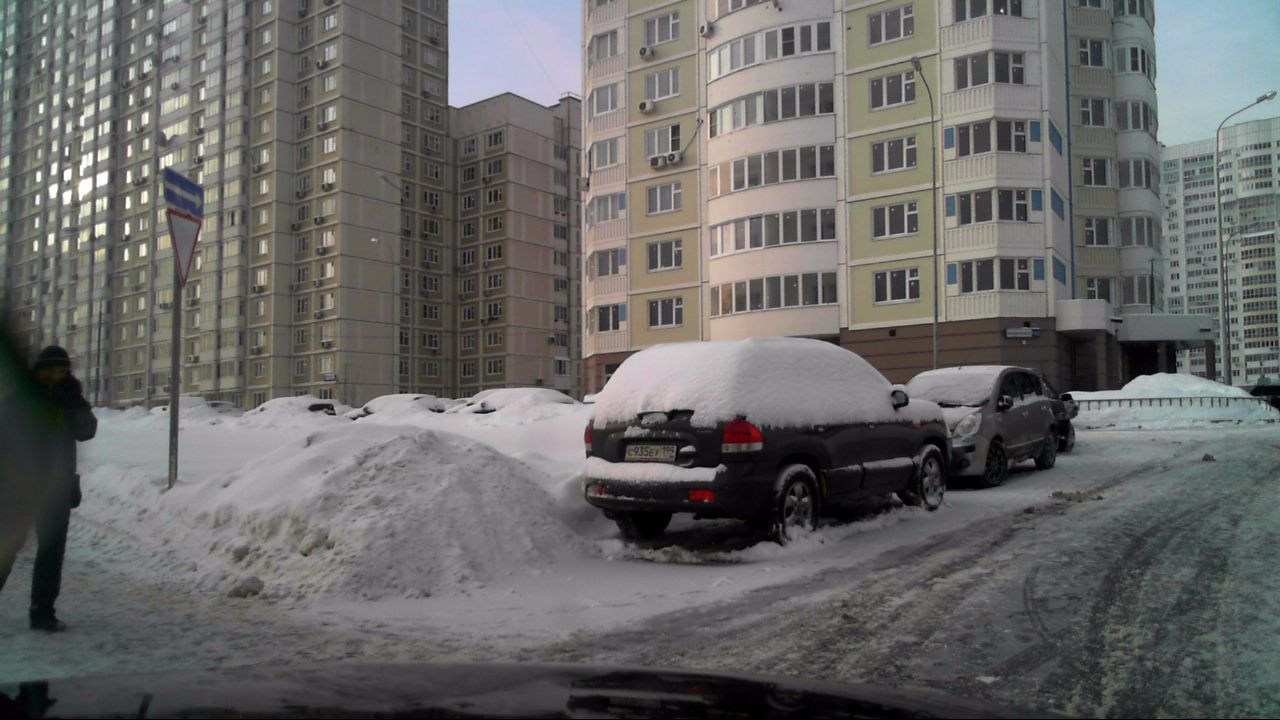One-Way Traffic: (164, 169, 204, 215)
